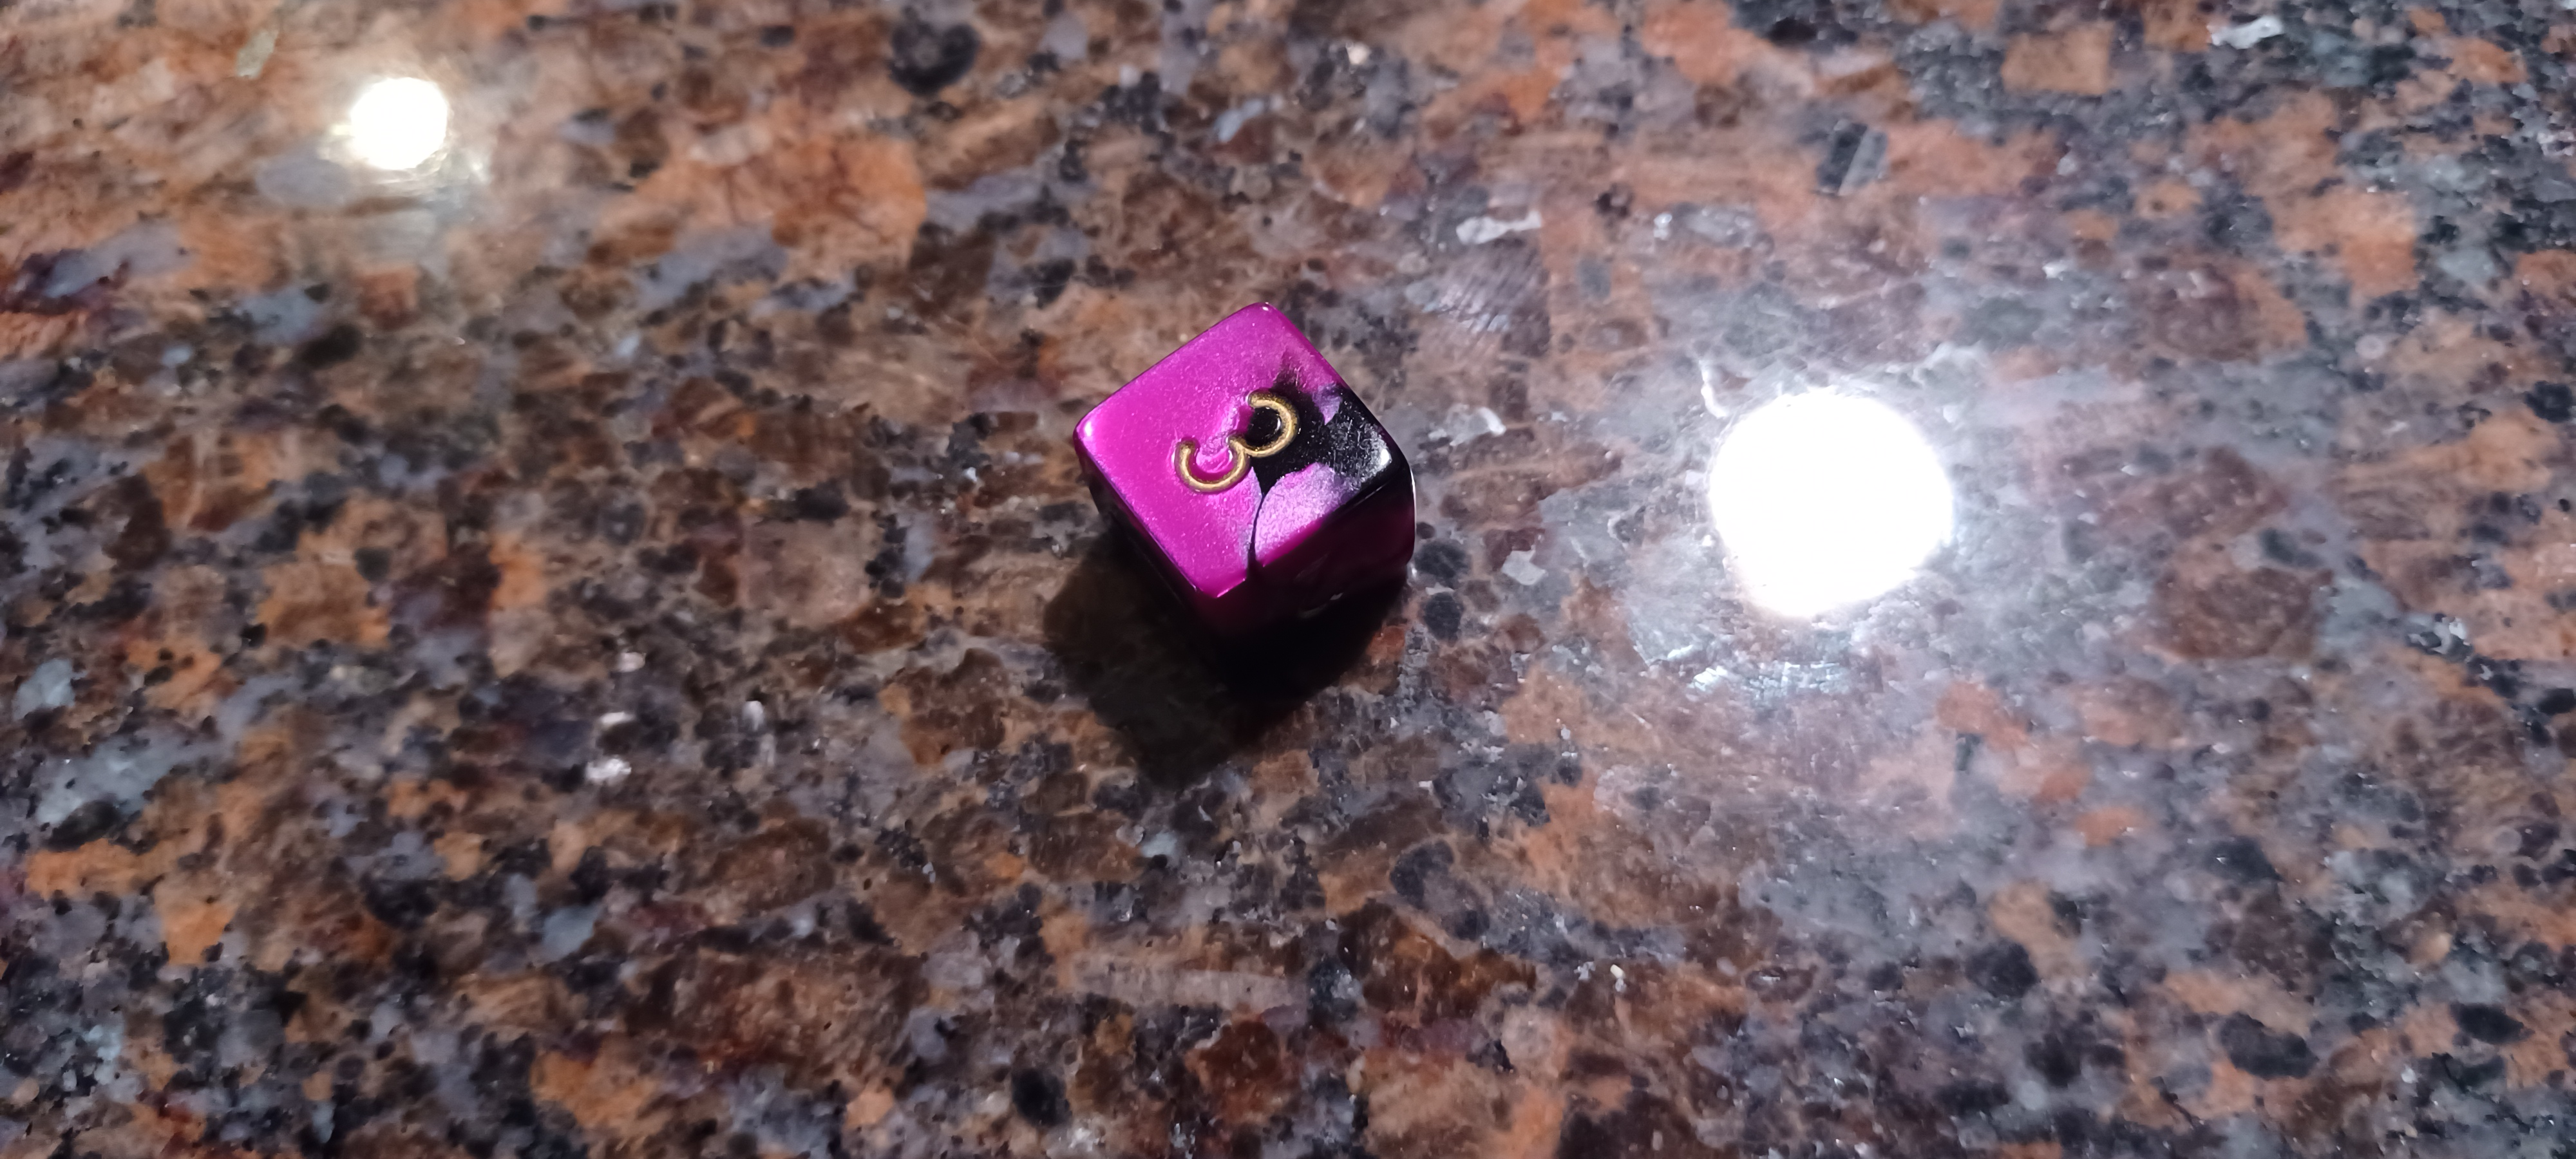three: (1025, 268, 1485, 714)
